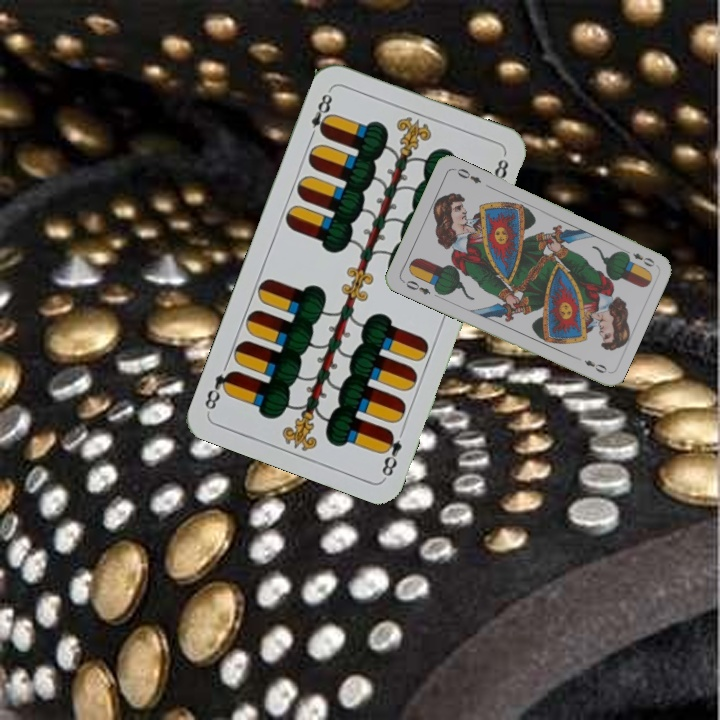E8: (305, 86, 335, 143), (377, 426, 405, 479)
EO: (619, 245, 658, 269), (399, 276, 433, 297)
